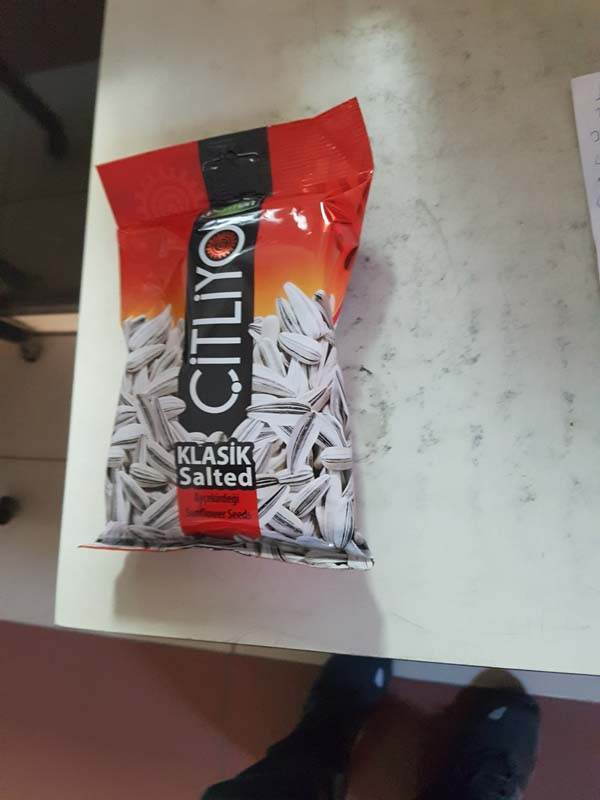citliyorklasik: (75, 90, 381, 585)
